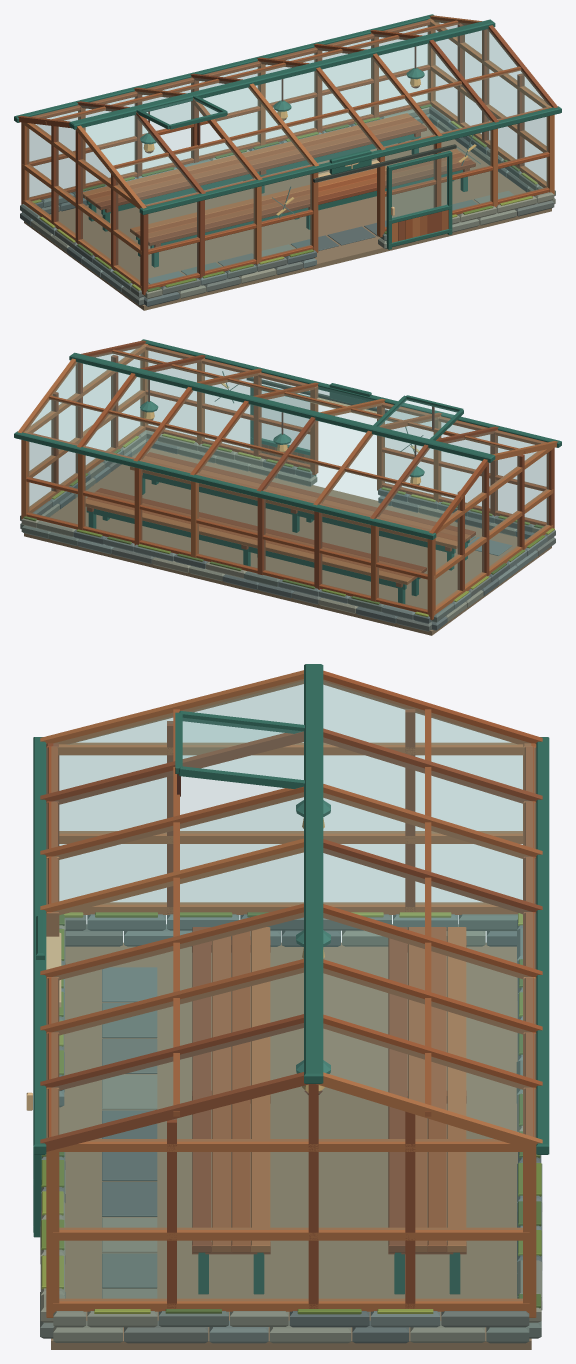
File: greenhouse.glb
3 views of the same model, one above another, from view 1: azimuth 30°, elevation 25°; view 2: azimuth 150°, elevation 25°; view 3: azimuth 270°, elevation 25° (orthographic). The views are drawn at different scales.
Visible parts, largest first — view 1: Glass, TimberFrame, Floor, MossyFooting, RearBench, FrontBench, SlidingDoor, PendantLamps, RoofVent, NurserySign; view 2: Glass, TimberFrame, Floor, MossyFooting, RearBench, FrontBench, SlidingDoor, RoofVent, PendantLamps, NurserySign; view 3: Glass, TimberFrame, Floor, MossyFooting, FrontBench, RearBench, RoofVent, SlidingDoor.
Boxes of the visible parts, left/top/right/bottom form: Glass: left=27, top=20, right=550, bottom=284; TimberFrame: left=14, top=14, right=561, bottom=295; Floor: left=24, top=123, right=551, bottom=310; MossyFooting: left=20, top=104, right=555, bottom=306; RearBench: left=83, top=113, right=426, bottom=231; FrontBench: left=130, top=149, right=475, bottom=267; SlidingDoor: left=313, top=144, right=456, bottom=249; PendantLamps: left=140, top=46, right=424, bottom=153; RoofVent: left=136, top=95, right=227, bottom=145; NurserySign: left=329, top=149, right=371, bottom=174; Glass: left=25, top=345, right=548, bottom=609; TimberFrame: left=14, top=339, right=561, bottom=620; Floor: left=24, top=448, right=551, bottom=635; MossyFooting: left=20, top=430, right=555, bottom=631; RearBench: left=85, top=488, right=426, bottom=603; FrontBench: left=130, top=452, right=475, bottom=570; SlidingDoor: left=246, top=377, right=388, bottom=476; RoofVent: left=373, top=395, right=463, bottom=440; PendantLamps: left=140, top=379, right=424, bottom=485; NurserySign: left=329, top=383, right=371, bottom=404; Glass: left=47, top=679, right=535, bottom=1300; TimberFrame: left=33, top=664, right=549, bottom=1317; Floor: left=51, top=942, right=531, bottom=1349; MossyFooting: left=40, top=912, right=542, bottom=1343; FrontBench: left=192, top=927, right=270, bottom=1294; RearBench: left=388, top=927, right=466, bottom=1294; RoofVent: left=175, top=711, right=304, bottom=796; SlidingDoor: left=26, top=1092, right=41, bottom=1237.
Size of the model in its own units: 12.65 by 4.24 by 6.8.
